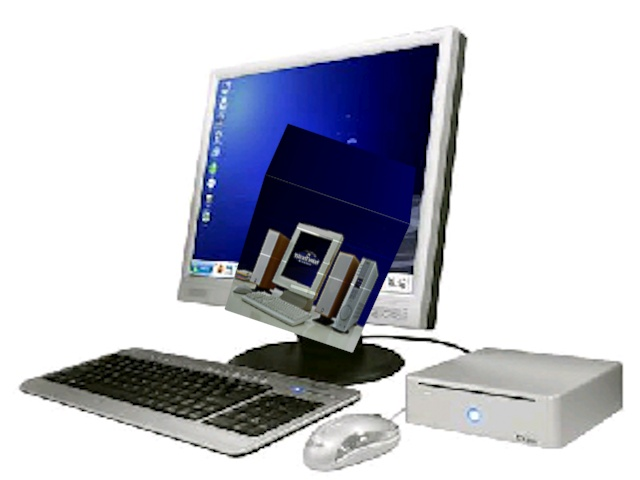file_cabinet: (224, 113, 417, 360)
